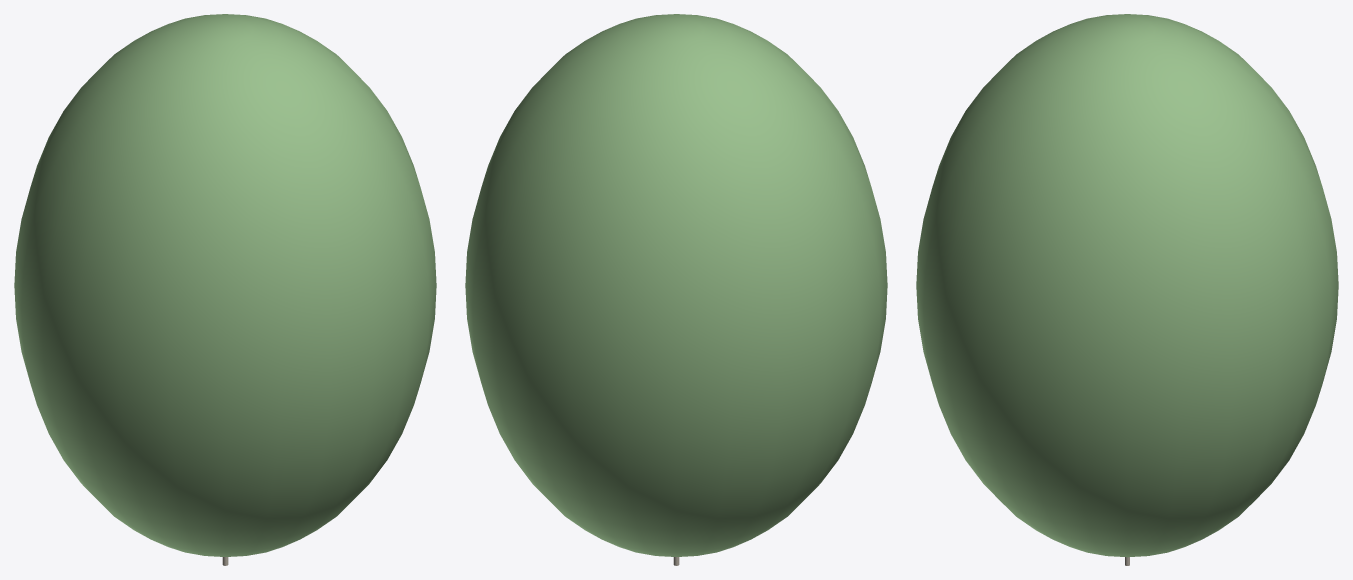
The model's file is RhamnusAlaternus.glb.
The picture shows the model from 3 angles, left to right: view 1: azimuth 30°, elevation 25°; view 2: azimuth 150°, elevation 25°; view 3: azimuth 270°, elevation 25°; orthographic projection.
Parts seen in each view (by area): view 1: Mediterranean_Buckthorn__Schematic_LOD3; view 2: Mediterranean_Buckthorn__Schematic_LOD3; view 3: Mediterranean_Buckthorn__Schematic_LOD3.
Boxes of the visible parts, x1=… form: Mediterranean_Buckthorn__Schematic_LOD3: x1=14, y1=14, x2=436, y2=565; Mediterranean_Buckthorn__Schematic_LOD3: x1=465, y1=14, x2=887, y2=565; Mediterranean_Buckthorn__Schematic_LOD3: x1=916, y1=14, x2=1338, y2=565.
Size of the model in its own units: 2.92 by 4.09 by 2.92.
